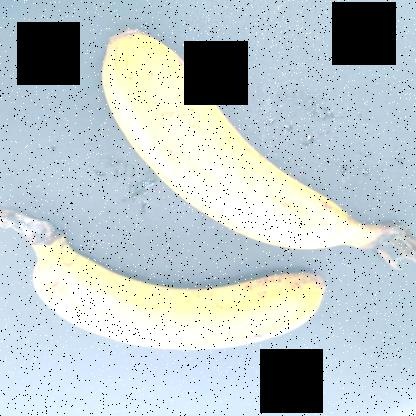ripe: (73, 10, 369, 258), (30, 221, 341, 365)
